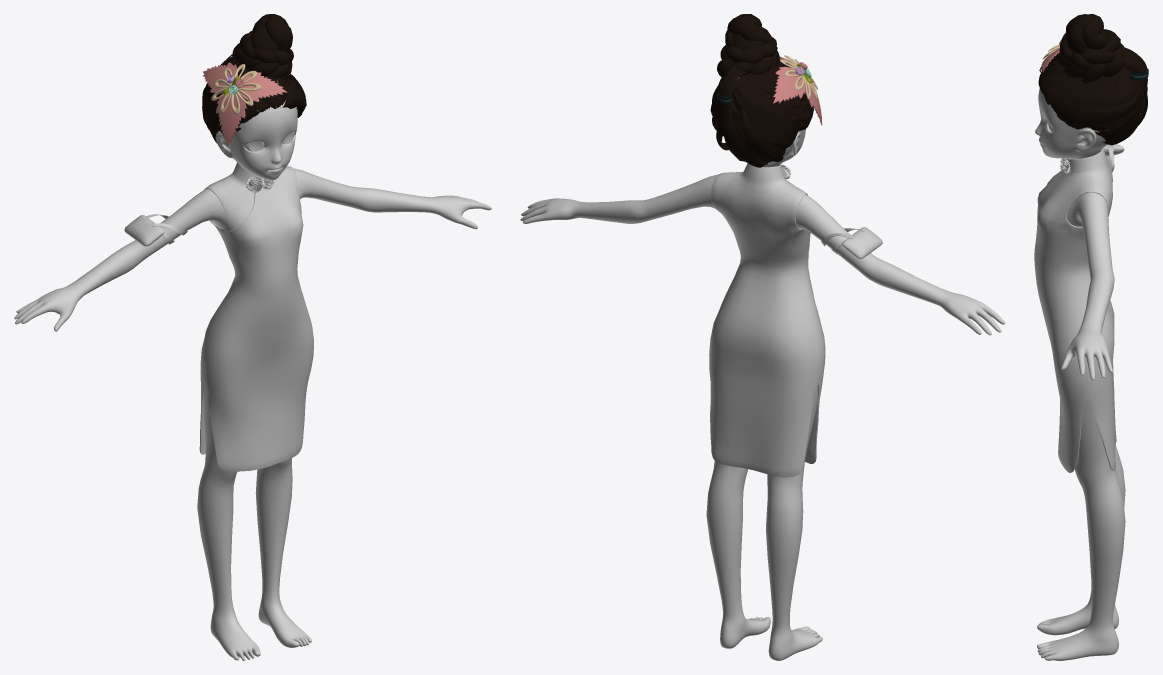
The model's file is qipaowawa_tutule_mx.fbx.
The picture shows the model from 3 angles, left to right: view 1: azimuth 30°, elevation 25°; view 2: azimuth 150°, elevation 25°; view 3: azimuth 270°, elevation 25°; orthographic projection. The views are drawn at different scales.
Visible parts, largest first — view 1: QiPao_Cloth, QiPao_Body, QiPao_Hair; view 2: QiPao_Cloth, QiPao_Body, QiPao_Hair; view 3: QiPao_Body, QiPao_Cloth, QiPao_Hair, 对象003, 对象001, 对象002, 对象004.
Boxes of the visible parts, box(x1,y1,x2,y2) form: QiPao_Cloth: box(124, 162, 313, 471); QiPao_Body: box(14, 80, 491, 660); QiPao_Hair: box(202, 30, 306, 147); QiPao_Cloth: box(709, 163, 882, 477); QiPao_Body: box(520, 77, 1005, 660); QiPao_Hair: box(710, 37, 822, 167); QiPao_Body: box(1035, 88, 1125, 660); QiPao_Cloth: box(1034, 144, 1124, 472); QiPao_Hair: box(1038, 29, 1148, 145); 对象003: box(1066, 23, 1087, 54); 对象001: box(1082, 15, 1103, 42); 对象002: box(1085, 34, 1107, 49); 对象004: box(1066, 14, 1093, 33).
Bounding box in the file's own units: 126 × 157 × 25.54.
